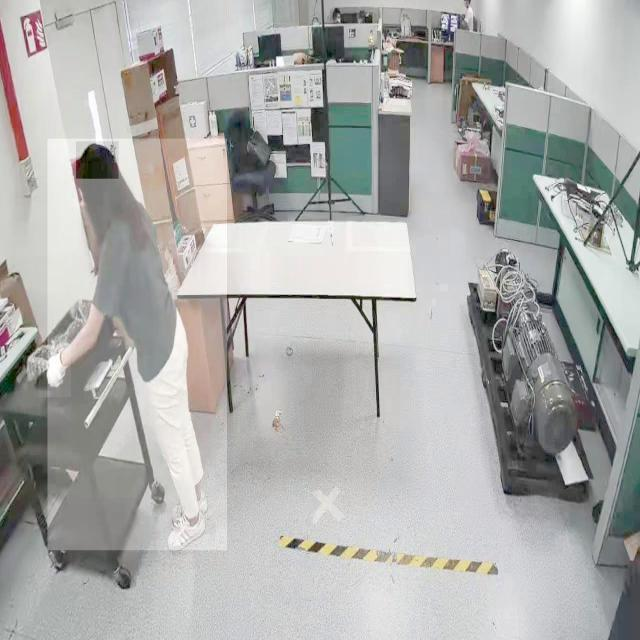hand_glove: (38, 340, 72, 398)
head_nohelmet: (76, 142, 119, 180)
person: (48, 139, 228, 551)
shoes: (166, 506, 208, 554)
